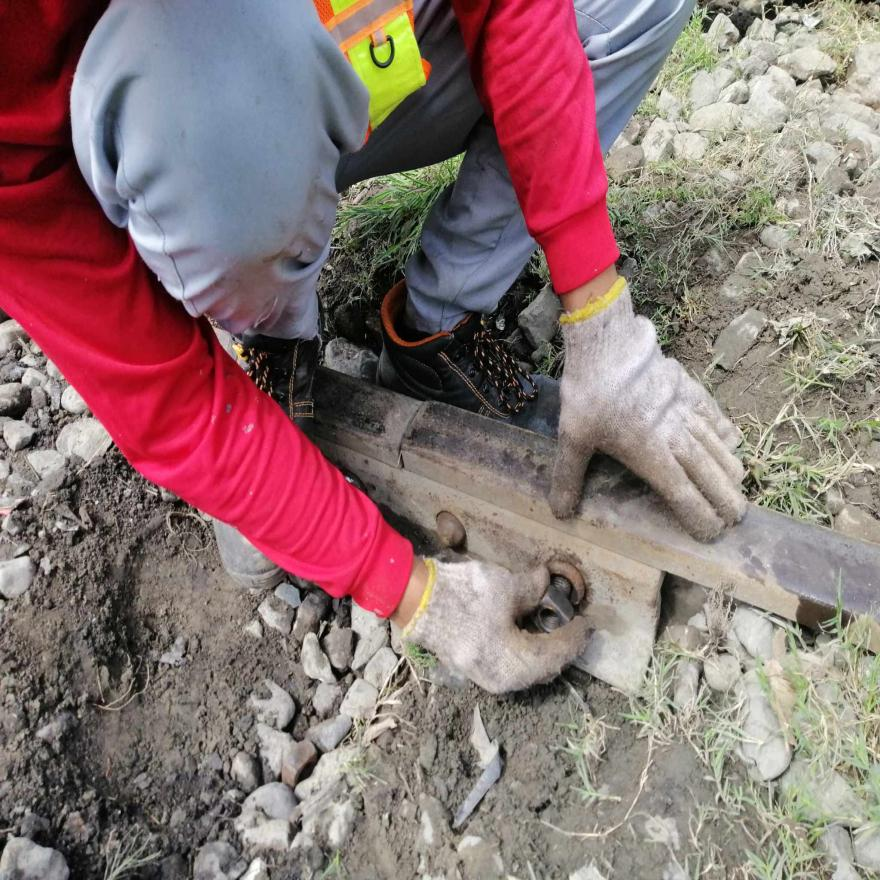railway-gap: (365, 382, 449, 489)
